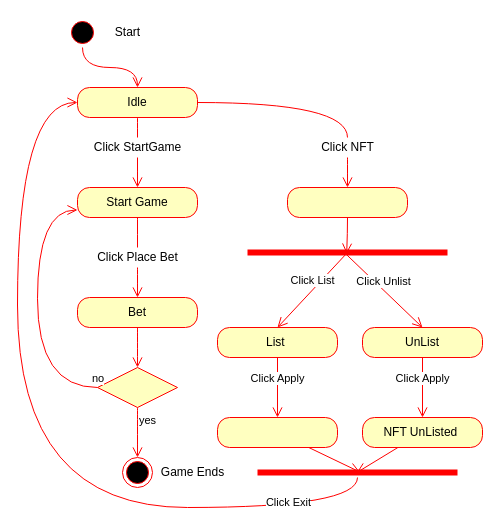
Some shapes in this 500 by 526 pixel diagram are drawn without their labels. The shapes that lost their labels are listed below. From the top down, each one's centre as x and y in pixels, then its label:
At point 347,202: "NFT".
At point 137,387: "Win".
At point 277,432: "NFT Listed".
